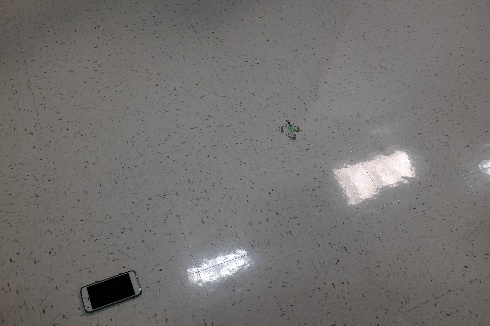phone: (86, 277, 135, 309)
